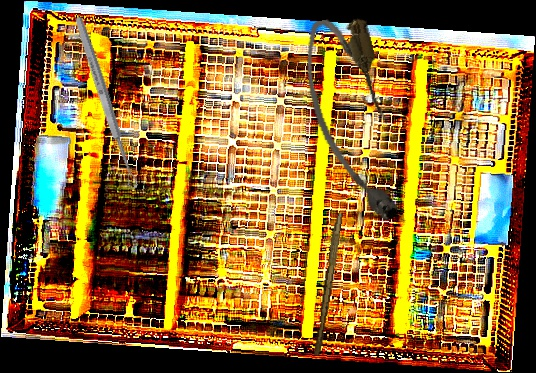Cannula: (294, 10, 412, 232)
Scalpel Handle: (313, 212, 343, 356)
Surgical Spoon: (72, 14, 140, 192)
